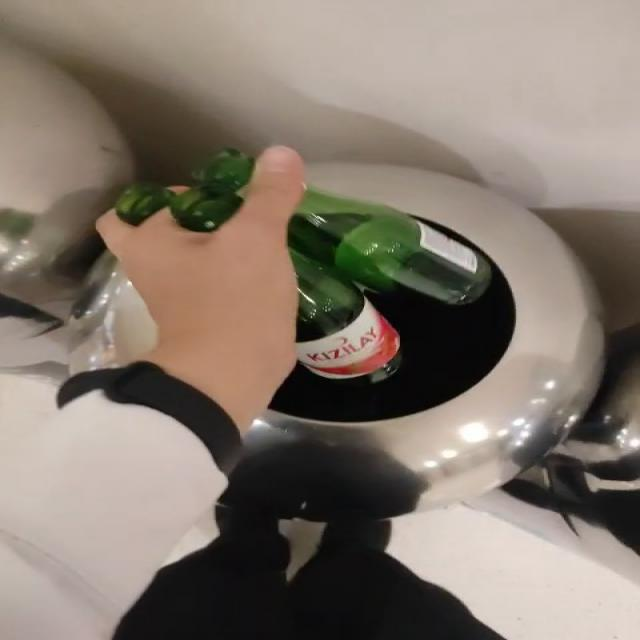glass: (288, 188, 492, 382), (113, 148, 255, 232)
